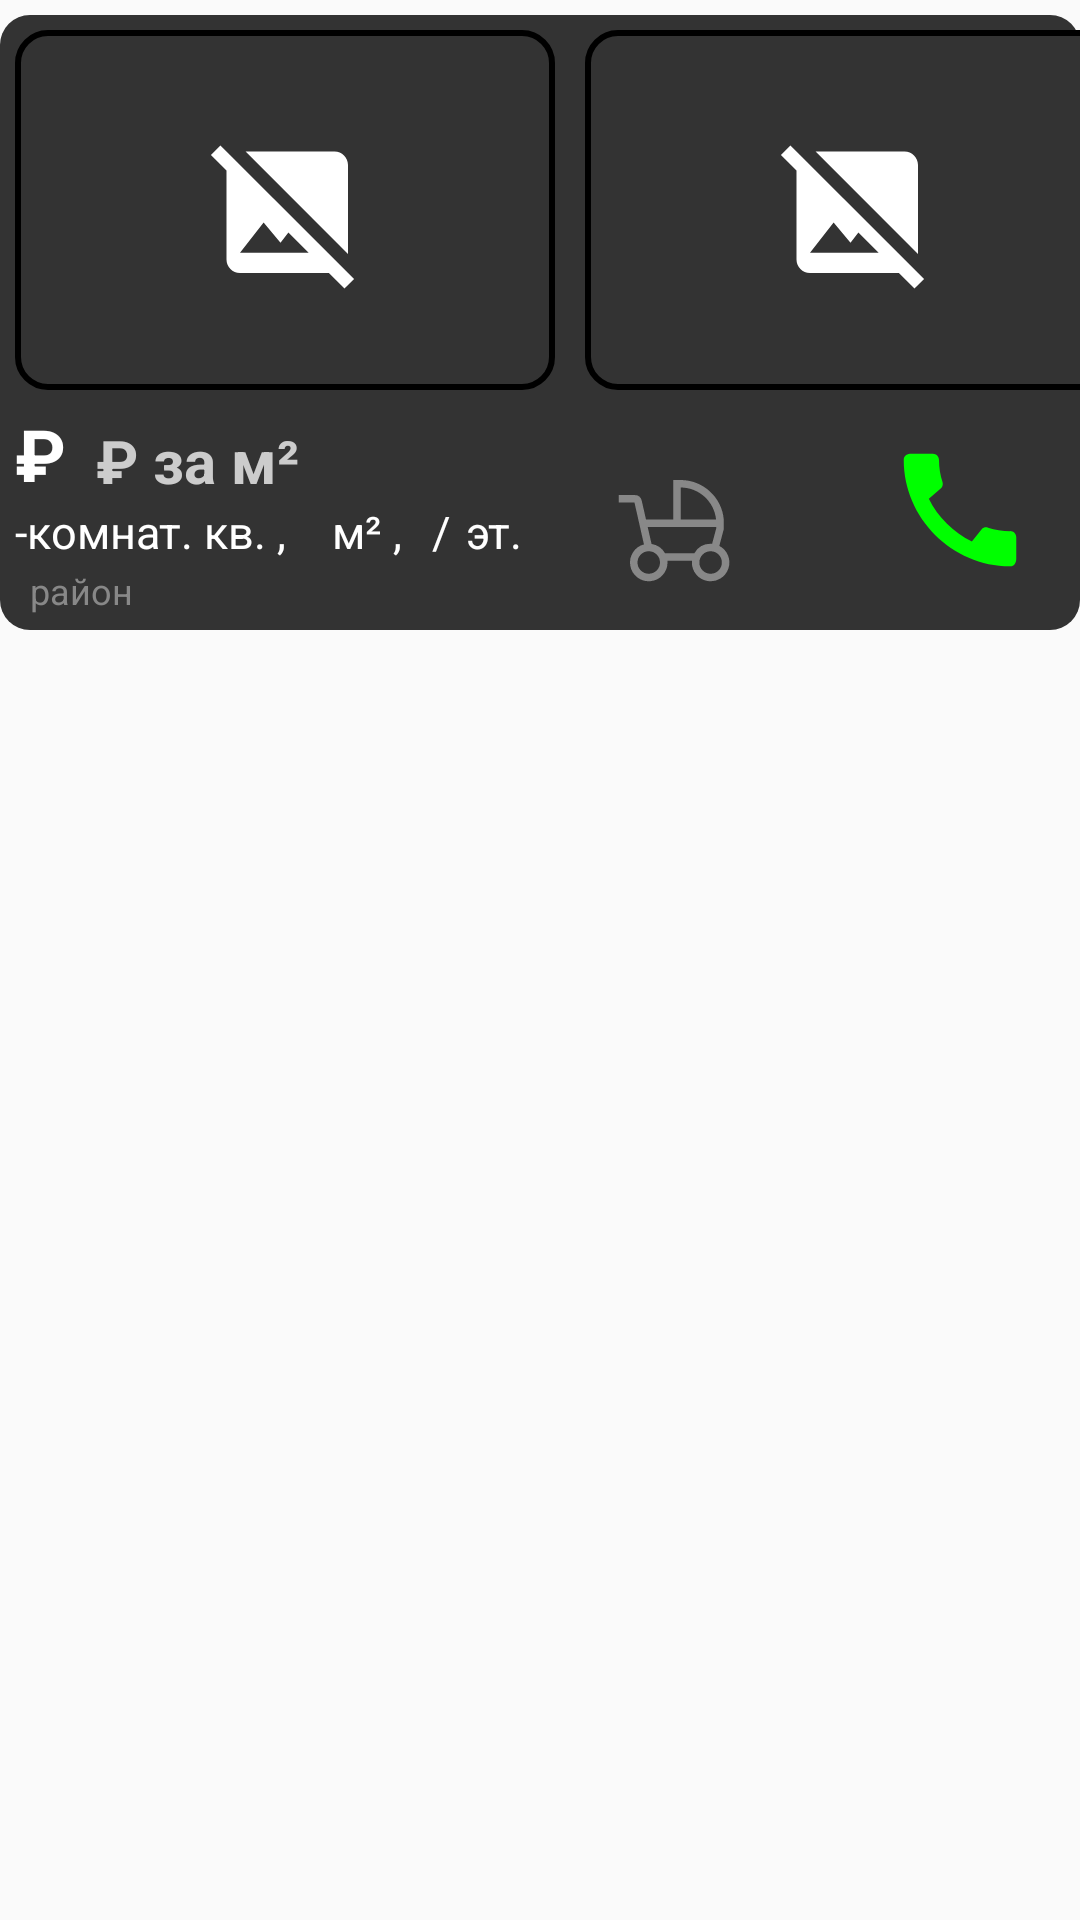

Icon bounding boxes for this 1080 × 1920 phone screenshot, format (x1, y1, x2, y2):
child: (619, 480, 730, 581)
Позвонить: (903, 453, 1017, 567)
